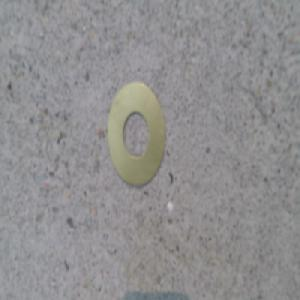Washer: (107, 79, 166, 189)
